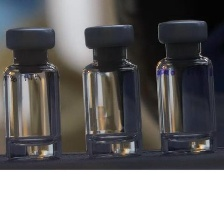bottle: (78, 21, 147, 163), (153, 17, 220, 158), (0, 21, 66, 164)
